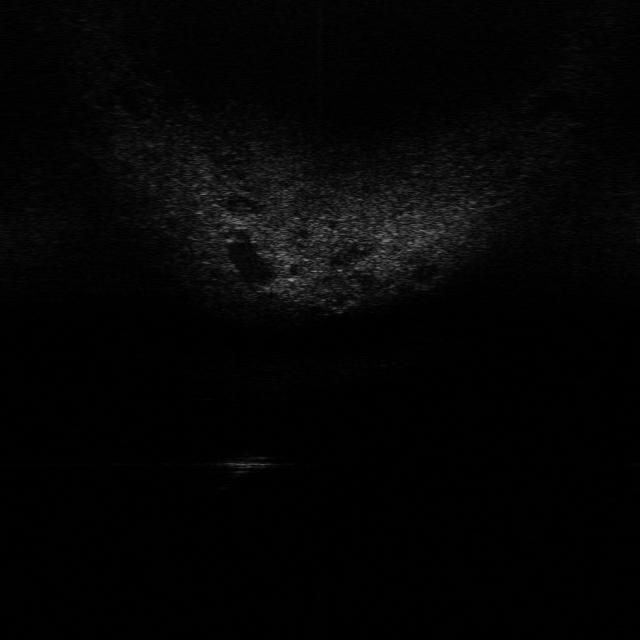cube: (212, 448, 274, 476)
